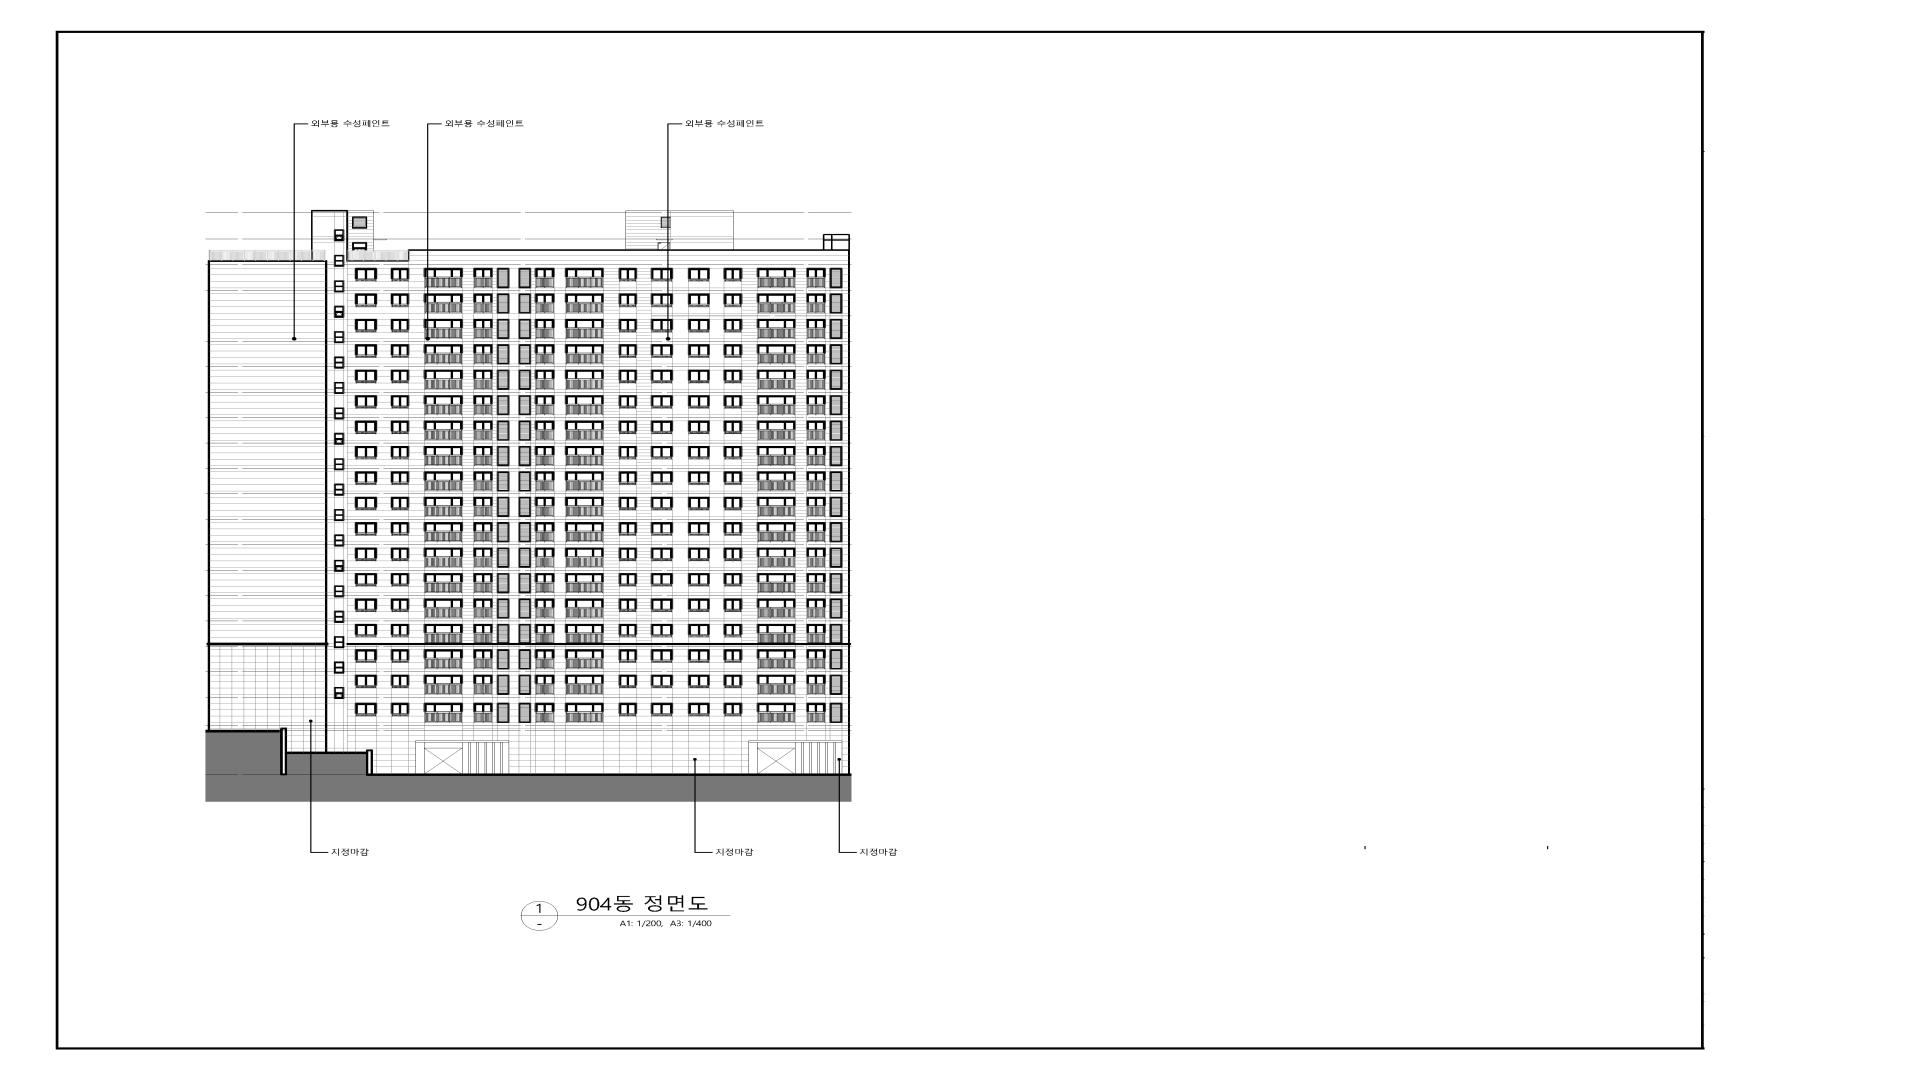door: (424, 748, 463, 774), (757, 748, 795, 774), (658, 242, 670, 250)
wall: (208, 210, 850, 777)
window: (564, 675, 604, 695), (423, 675, 463, 695), (423, 624, 463, 644), (424, 598, 463, 618), (424, 573, 463, 593), (424, 497, 463, 517), (424, 420, 463, 440), (424, 370, 463, 390), (424, 319, 463, 339), (565, 598, 604, 618), (565, 522, 604, 542), (565, 446, 604, 466), (565, 420, 604, 440), (565, 395, 604, 415), (565, 344, 604, 364), (757, 675, 796, 695), (757, 573, 796, 593), (757, 471, 796, 491), (757, 370, 796, 390), (757, 293, 796, 313), (424, 703, 463, 723), (424, 649, 463, 669), (424, 548, 463, 568), (424, 395, 463, 415), (424, 344, 463, 364), (565, 703, 604, 723), (565, 624, 604, 644), (565, 548, 604, 568), (565, 471, 604, 491), (565, 370, 604, 390), (565, 293, 604, 313), (565, 268, 604, 288), (757, 649, 796, 669), (757, 548, 796, 568), (757, 497, 796, 517), (757, 420, 796, 440), (757, 319, 796, 339), (757, 268, 796, 288), (424, 522, 463, 542), (424, 471, 463, 491), (424, 446, 463, 466), (424, 293, 463, 313), (424, 268, 463, 288), (565, 649, 604, 669), (565, 573, 604, 593), (565, 497, 604, 517), (565, 319, 604, 339), (757, 703, 796, 723), (757, 624, 796, 644), (757, 522, 796, 542), (757, 446, 796, 466), (757, 395, 796, 415), (757, 344, 796, 364), (757, 599, 796, 618), (473, 675, 493, 695), (473, 624, 493, 644), (473, 573, 493, 593), (473, 471, 493, 491), (473, 293, 493, 313), (473, 268, 493, 288), (535, 573, 555, 593), (535, 497, 555, 517), (806, 446, 826, 466), (806, 420, 826, 440), (806, 395, 826, 415), (806, 319, 826, 339), (806, 293, 826, 313), (473, 598, 493, 618), (473, 548, 493, 568), (473, 446, 493, 466), (473, 395, 493, 415), (473, 370, 493, 390), (473, 319, 493, 339), (806, 703, 826, 723), (806, 675, 826, 695), (806, 649, 826, 669), (473, 703, 493, 723), (473, 649, 493, 669), (473, 522, 493, 542), (473, 497, 493, 517), (535, 624, 555, 644), (806, 624, 826, 644), (806, 598, 826, 618), (806, 573, 826, 593), (806, 522, 826, 542), (806, 497, 826, 517), (806, 471, 826, 491), (806, 370, 826, 390), (806, 344, 826, 364), (806, 268, 826, 288), (473, 344, 492, 364), (535, 548, 554, 568), (535, 522, 554, 542), (535, 319, 554, 339), (535, 293, 554, 313), (535, 268, 554, 288), (473, 420, 492, 440), (535, 703, 554, 723), (535, 675, 554, 695), (535, 649, 554, 669), (535, 598, 554, 618), (535, 471, 554, 491), (535, 446, 554, 466), (535, 395, 554, 415), (535, 370, 554, 390), (535, 344, 554, 364), (806, 548, 826, 567), (535, 421, 554, 440), (650, 598, 673, 612), (650, 370, 673, 384), (650, 293, 673, 307), (354, 395, 377, 409), (651, 522, 673, 536), (651, 497, 673, 511), (651, 471, 673, 485), (651, 446, 673, 460), (651, 344, 673, 358), (651, 268, 673, 282), (688, 649, 710, 663), (688, 624, 710, 638), (688, 548, 710, 562), (688, 471, 710, 485), (688, 446, 710, 460), (688, 293, 710, 307), (688, 268, 710, 282), (355, 649, 377, 663), (355, 624, 377, 638), (355, 548, 377, 562), (355, 522, 377, 536), (355, 497, 377, 511), (355, 471, 377, 485), (355, 319, 377, 333), (355, 293, 377, 307), (355, 268, 377, 282), (651, 649, 673, 663), (651, 624, 673, 638), (651, 573, 673, 587), (355, 675, 377, 689), (355, 573, 377, 587), (355, 446, 377, 460), (355, 344, 377, 358), (651, 703, 673, 717), (651, 395, 673, 409), (651, 319, 673, 333), (688, 598, 710, 612), (688, 573, 710, 587), (688, 522, 710, 536), (688, 420, 710, 434), (688, 395, 710, 409), (688, 344, 710, 358), (688, 319, 710, 333), (355, 703, 377, 717), (355, 598, 377, 612), (355, 420, 377, 434), (355, 370, 377, 384), (688, 675, 710, 688), (651, 675, 673, 688), (651, 548, 673, 561), (688, 703, 710, 716), (688, 497, 710, 510), (688, 370, 710, 383), (651, 421, 673, 434), (518, 471, 531, 492), (518, 649, 531, 670), (518, 293, 531, 314), (518, 598, 531, 619), (391, 598, 410, 612), (390, 497, 409, 511), (618, 471, 637, 485), (618, 446, 637, 460), (618, 420, 637, 434), (618, 395, 637, 409), (618, 319, 637, 333), (723, 624, 742, 638), (723, 446, 742, 460), (723, 370, 742, 384), (723, 319, 742, 333), (618, 522, 637, 536), (618, 497, 637, 511), (618, 293, 637, 307), (618, 268, 637, 282), (723, 703, 742, 717), (723, 649, 742, 663), (723, 471, 742, 485), (723, 395, 742, 409), (391, 395, 410, 409), (390, 370, 409, 384), (618, 703, 637, 717), (618, 675, 637, 689), (618, 624, 637, 638), (618, 573, 637, 587), (723, 598, 742, 612), (723, 573, 742, 587), (723, 497, 742, 511), (723, 344, 742, 358), (723, 293, 742, 307), (723, 268, 742, 282), (518, 446, 531, 466), (518, 421, 531, 441), (518, 395, 531, 415), (518, 370, 531, 390), (518, 344, 531, 364), (518, 319, 531, 339), (497, 624, 510, 644), (518, 573, 531, 593), (518, 548, 531, 568), (518, 268, 531, 288), (830, 703, 843, 723), (830, 675, 843, 695), (830, 624, 843, 644), (497, 649, 510, 669), (497, 573, 510, 593), (497, 446, 510, 466), (518, 703, 531, 723), (518, 522, 531, 542), (518, 497, 531, 517), (497, 471, 510, 491), (497, 344, 510, 364), (518, 675, 531, 695), (518, 624, 531, 644), (391, 548, 409, 562), (391, 471, 409, 485), (391, 446, 409, 460), (619, 344, 637, 358), (724, 522, 742, 536), (497, 420, 509, 441), (830, 598, 842, 619), (391, 674, 409, 688), (391, 649, 409, 663), (391, 624, 409, 638), (391, 522, 409, 536), (497, 598, 509, 619), (497, 395, 509, 416), (497, 293, 509, 314), (391, 319, 409, 333), (830, 471, 842, 492), (391, 573, 409, 587), (391, 344, 409, 358), (391, 293, 409, 307), (391, 268, 409, 282), (619, 649, 637, 663), (619, 598, 637, 612), (390, 421, 409, 434), (619, 370, 638, 383), (391, 703, 410, 716), (618, 548, 637, 561), (723, 548, 742, 561), (723, 421, 742, 434), (830, 268, 842, 288), (497, 548, 509, 568), (497, 522, 509, 542), (497, 319, 509, 339), (497, 268, 509, 288), (830, 649, 842, 669), (830, 573, 842, 593), (830, 548, 842, 568), (830, 522, 842, 542), (830, 497, 842, 517), (497, 675, 509, 695), (830, 446, 842, 466), (830, 421, 842, 441), (830, 395, 842, 415), (830, 370, 842, 390), (830, 344, 842, 364), (830, 319, 842, 339), (830, 293, 842, 313), (497, 703, 509, 723), (497, 497, 509, 517), (497, 370, 509, 390), (724, 675, 742, 688), (352, 216, 367, 229), (352, 242, 367, 251), (334, 534, 344, 547), (334, 687, 344, 699), (334, 585, 344, 597), (334, 458, 344, 470), (334, 357, 344, 369), (334, 306, 344, 318), (334, 280, 344, 292), (334, 662, 344, 674), (334, 560, 344, 572), (334, 484, 344, 496), (334, 433, 344, 445), (334, 331, 344, 343), (334, 636, 344, 648), (334, 611, 344, 623), (334, 509, 344, 521), (334, 408, 344, 420), (334, 382, 344, 394), (334, 255, 344, 267), (334, 229, 344, 241), (661, 217, 671, 228)
